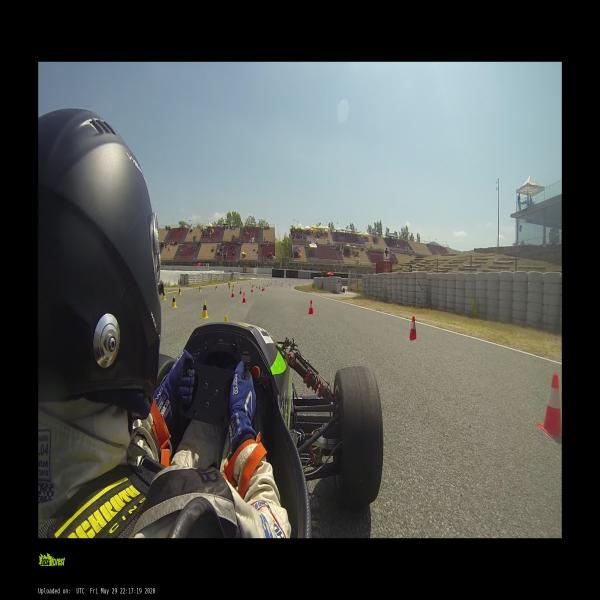orange_cone: (537, 372, 562, 443), (408, 316, 418, 341), (308, 300, 315, 314), (242, 293, 246, 303), (239, 288, 242, 294), (232, 289, 234, 297), (251, 286, 253, 292), (262, 286, 263, 291), (264, 285, 264, 290)
yellow_cone: (201, 300, 209, 318), (172, 294, 176, 308), (198, 286, 202, 293), (163, 291, 166, 300), (178, 288, 181, 295), (224, 316, 227, 321), (215, 285, 217, 291), (229, 284, 231, 290), (233, 284, 234, 289), (228, 282, 229, 286)
